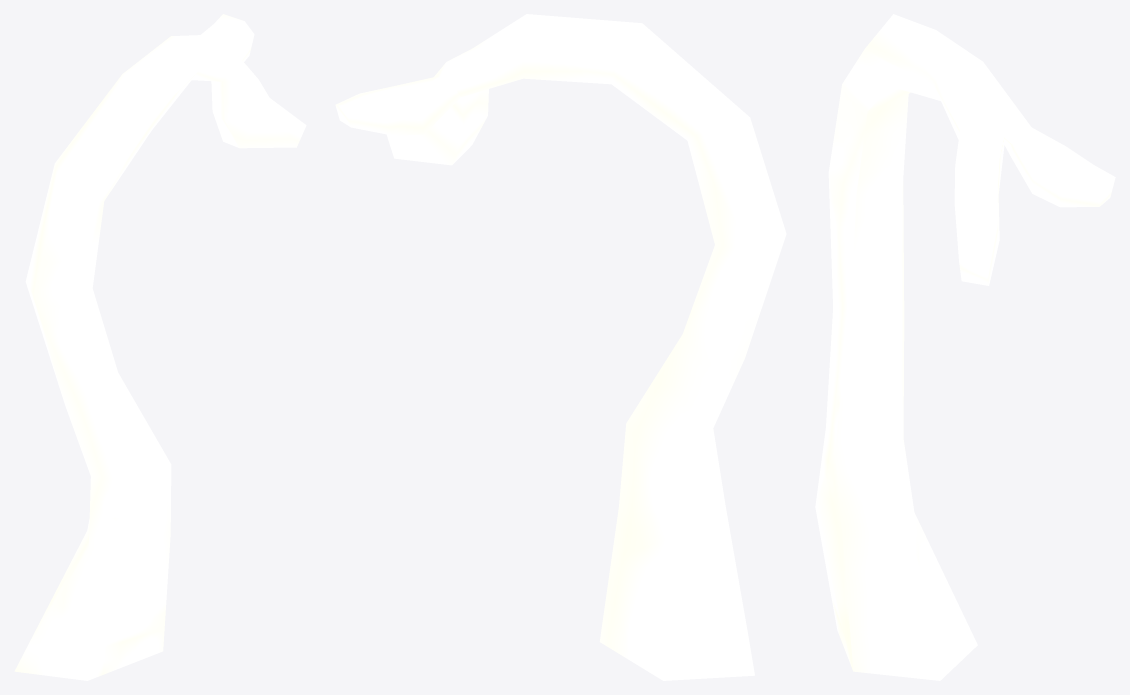
The picture shows the model from 3 angles, left to right: view 1: azimuth 30°, elevation 25°; view 2: azimuth 150°, elevation 25°; view 3: azimuth 270°, elevation 25°; orthographic projection. The views are drawn at different scales.
Visible parts, largest first — view 1: SM_Snapdragon_v1_LOD0; view 2: SM_Snapdragon_v1_LOD0; view 3: SM_Snapdragon_v1_LOD0.
Boxes of the visible parts, x1,y1,x2,y2 form: SM_Snapdragon_v1_LOD0: [14, 14, 306, 680]; SM_Snapdragon_v1_LOD0: [335, 14, 786, 680]; SM_Snapdragon_v1_LOD0: [815, 14, 1115, 680].
Bounding box in the file's own units: 0.1382 × 0.2402 × 0.0978.
1 material, 1 textured.
